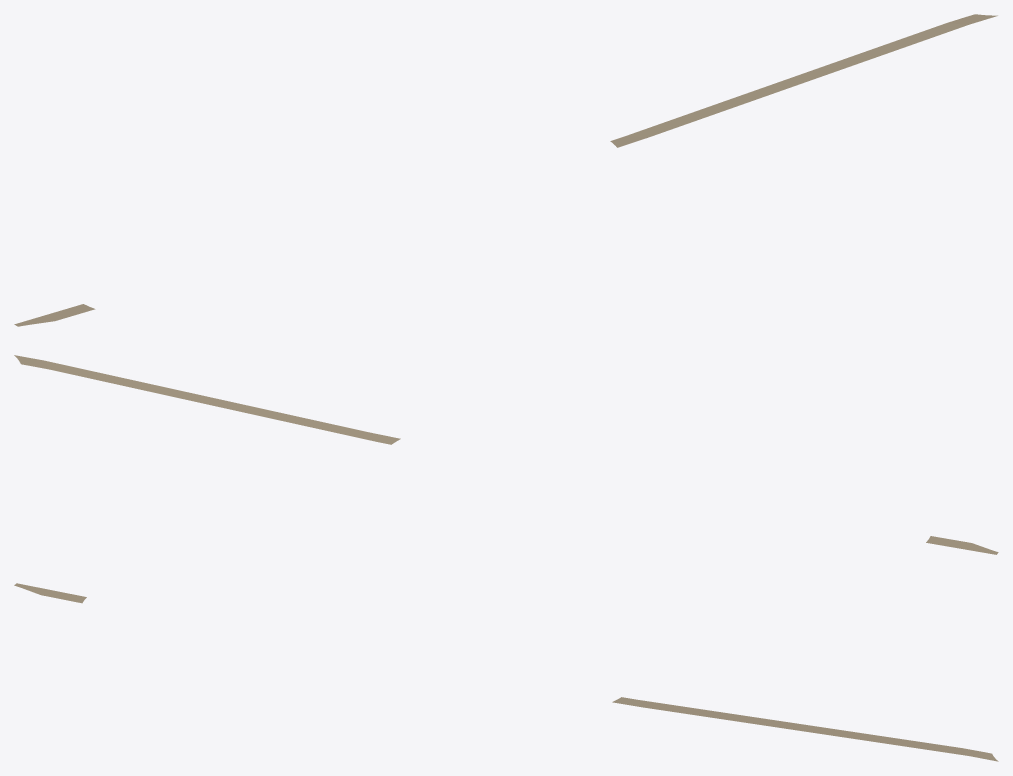
Rendered from farm_21_13_track.glb.
3 renders of one model, top to bottom at view 1: azimuth 30°, elevation 25°; view 2: azimuth 150°, elevation 25°; view 3: azimuth 330°, elevation 25°, orthographic. The views are drawn at different scales.
Parts seen in each view (by area): view 1: geometry_0; view 2: geometry_0; view 3: geometry_0.
Boxes of the visible parts, x1,y1,x2,y2 form: geometry_0: (14, 14, 997, 326); geometry_0: (14, 355, 998, 554); geometry_0: (14, 583, 998, 761).
Size of the model in its own units: 219 by 2.86 by 26.56.
